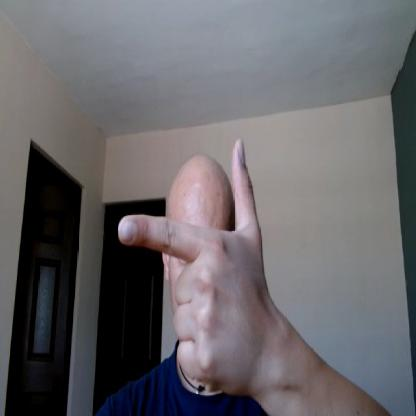G: (118, 134, 267, 384)
